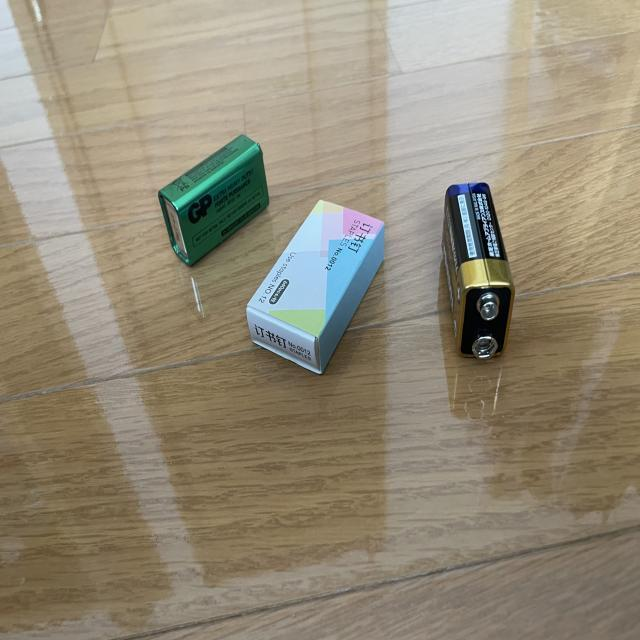9V: (156, 134, 271, 267), (442, 182, 515, 359)
